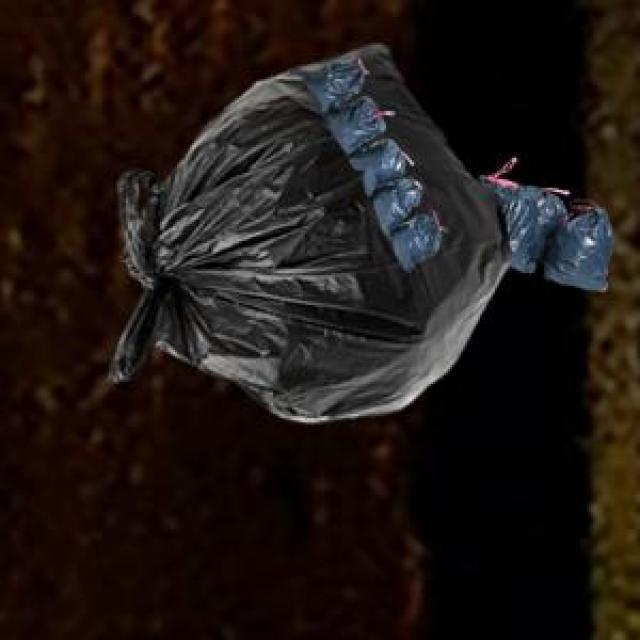waste: (111, 44, 611, 422)
